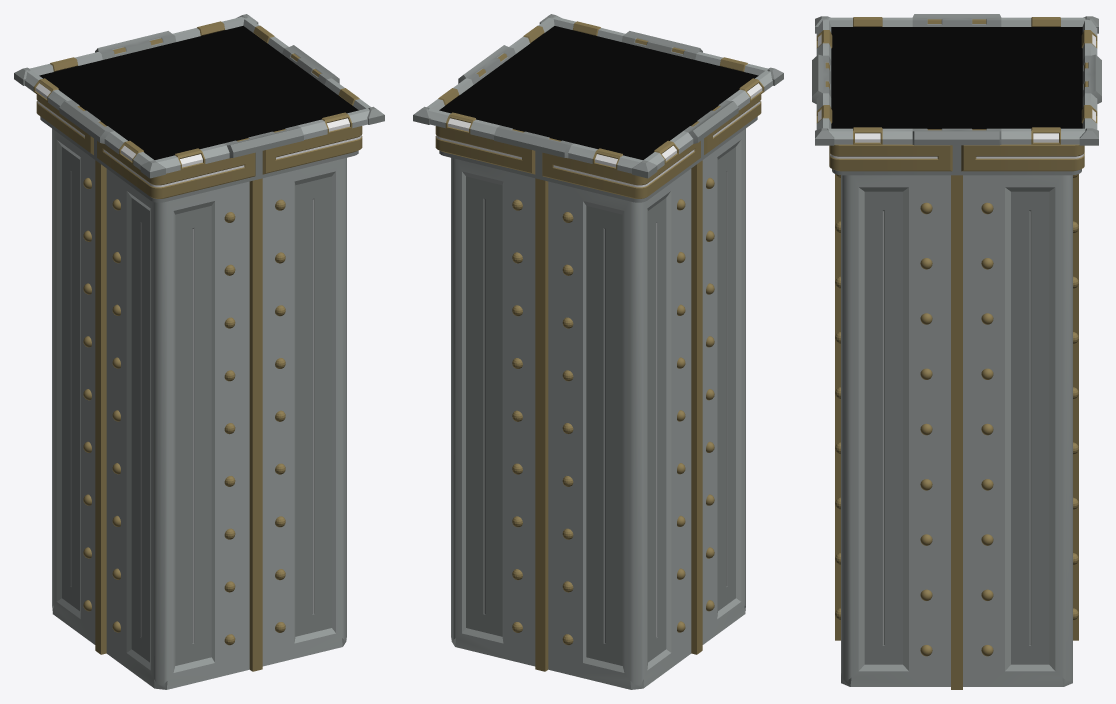
File: Launchpad.fbx
The picture shows the model from 3 angles, left to right: view 1: azimuth 30°, elevation 25°; view 2: azimuth 150°, elevation 25°; view 3: azimuth 270°, elevation 25°; orthographic projection. The views are drawn at different scales.
Visible parts, largest first — view 1: Launchpad_Launcher, Launchpad_Platform; view 2: Launchpad_Launcher, Launchpad_Platform; view 3: Launchpad_Launcher, Launchpad_Platform.
Boxes of the visible parts, x1=… form: Launchpad_Launcher: x1=36, y1=94, x2=362, y2=689; Launchpad_Platform: x1=14, y1=14, x2=384, y2=178; Launchpad_Launcher: x1=435, y1=94, x2=761, y2=689; Launchpad_Platform: x1=413, y1=14, x2=783, y2=178; Launchpad_Launcher: x1=829, y1=144, x2=1084, y2=689; Launchpad_Platform: x1=812, y1=14, x2=1101, y2=145.
Bounding box in the file's own units: 475 × 1023 × 475.
